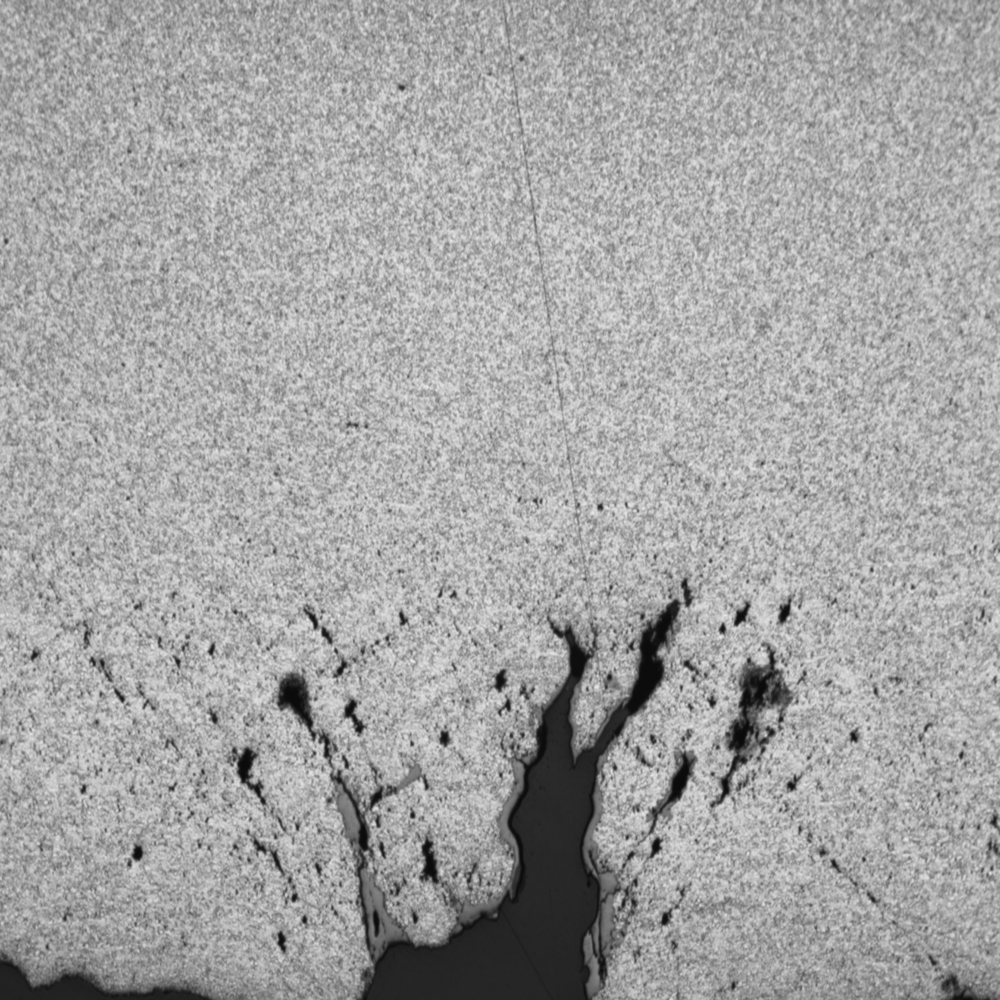crack: (104, 569, 812, 995)
